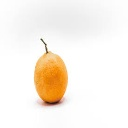orange: (33, 46, 72, 108)
